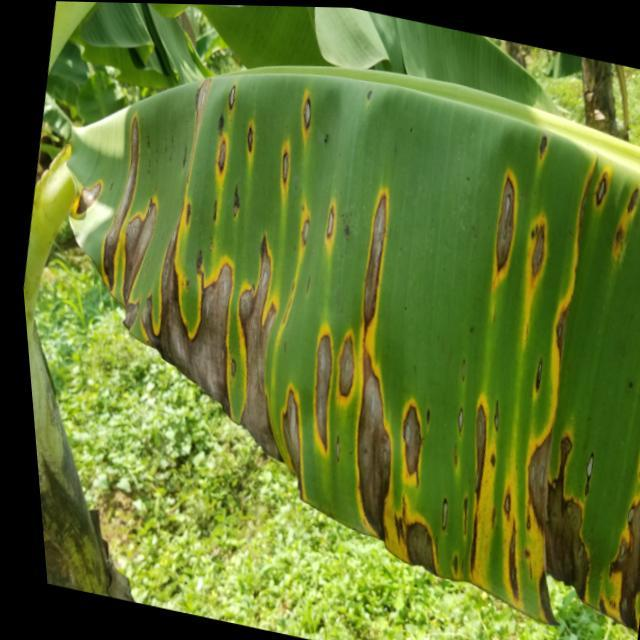Early_rust: (71, 74, 640, 613)
